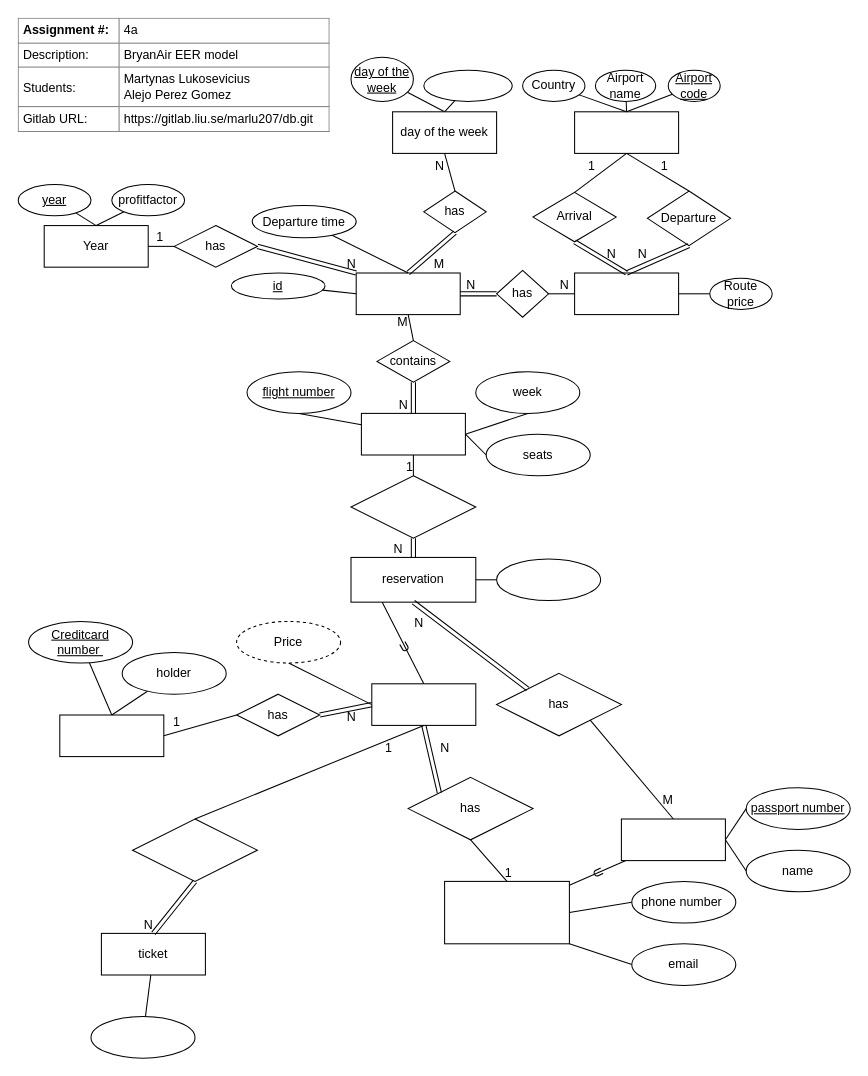
Some shapes in this 868 by 1076 pixel diagram are drawn without their labels. The shapes that lost their labels are listed below. From the top down, each one's centre as x and y in pixels, then its label:
At pixel 467 85: "weekdayfactor".
At pixel 626 132: "City".
At pixel 407 293: "Weekly schedule".
At pixel 626 293: "Route".
At pixel 412 433: "flight".
At pixel 413 506: "reserves".
At pixel 548 579: "reservation number".
At pixel 423 704: "booking".
At pixel 111 735: "credit card".
At pixel 194 849: "payment".
At pixel 672 839: "passengers".
At pixel 506 912: "Contact".
At pixel 142 1037: "ticket id".
